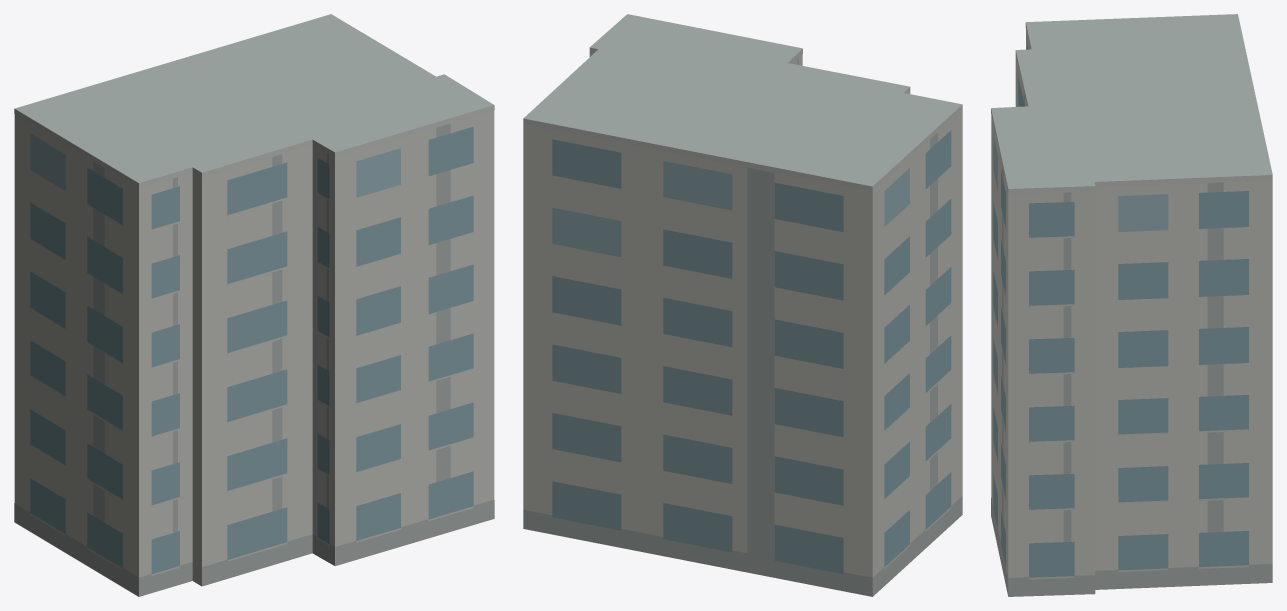
Rendered from survey-upis-32620818.glb.
The picture shows the model from 3 angles, left to right: view 1: azimuth 30°, elevation 25°; view 2: azimuth 150°, elevation 25°; view 3: azimuth 270°, elevation 25°; orthographic projection.
Parts seen in each view (by area): view 1: survey-upis-32620818.tmp; view 2: survey-upis-32620818.tmp; view 3: survey-upis-32620818.tmp.
Boxes of the visible parts, left/top/right/bottom form: survey-upis-32620818.tmp: left=14, top=14, right=494, bottom=596; survey-upis-32620818.tmp: left=523, top=14, right=962, bottom=596; survey-upis-32620818.tmp: left=991, top=14, right=1272, bottom=596.
Bounding box in the file's own units: 16.84 × 18.3 × 11.46.
